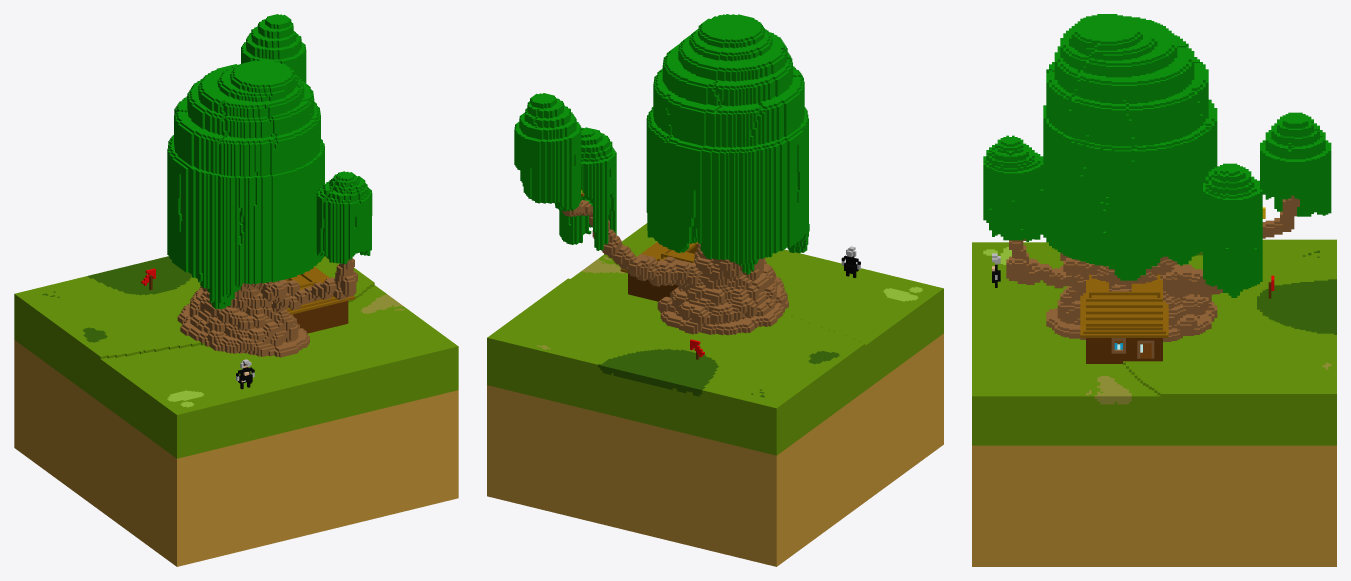
The picture shows the model from 3 angles, left to right: view 1: azimuth 30°, elevation 25°; view 2: azimuth 150°, elevation 25°; view 3: azimuth 270°, elevation 25°; orthographic projection. The views are drawn at different scales.
Visible parts, largest first — view 1: 2B; view 2: 2B; view 3: 2B.
Boxes of the visible parts, left/top/right/bottom form: 2B: left=14, top=14, right=458, bottom=566; 2B: left=487, top=14, right=943, bottom=566; 2B: left=972, top=14, right=1336, bottom=566.
Size of the model in its own units: 12.8 by 18 by 12.8.
1 material, 1 textured.
